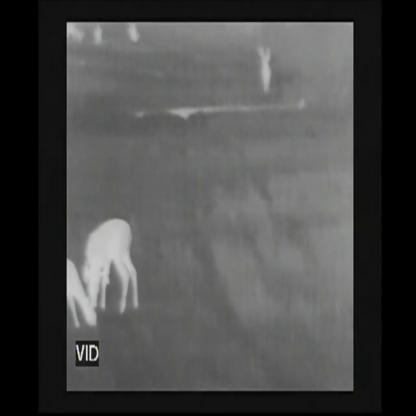rehkitze: (84, 215, 140, 310), (66, 253, 98, 328), (258, 43, 275, 98)
